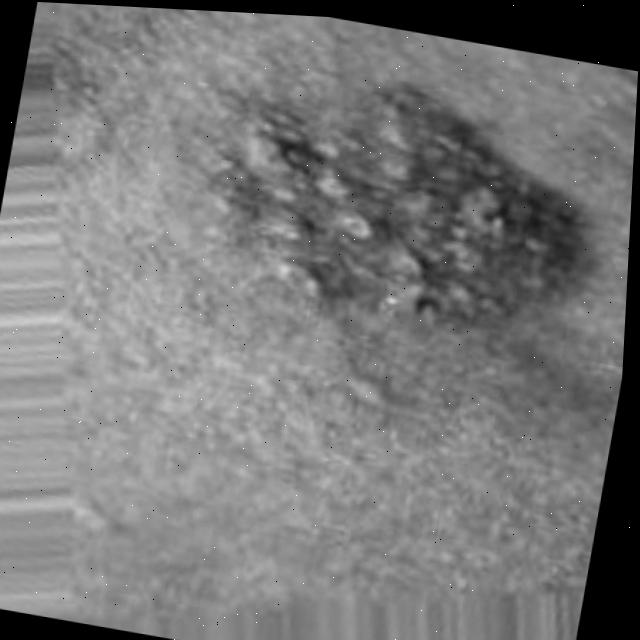Shingles: (212, 77, 627, 357)
